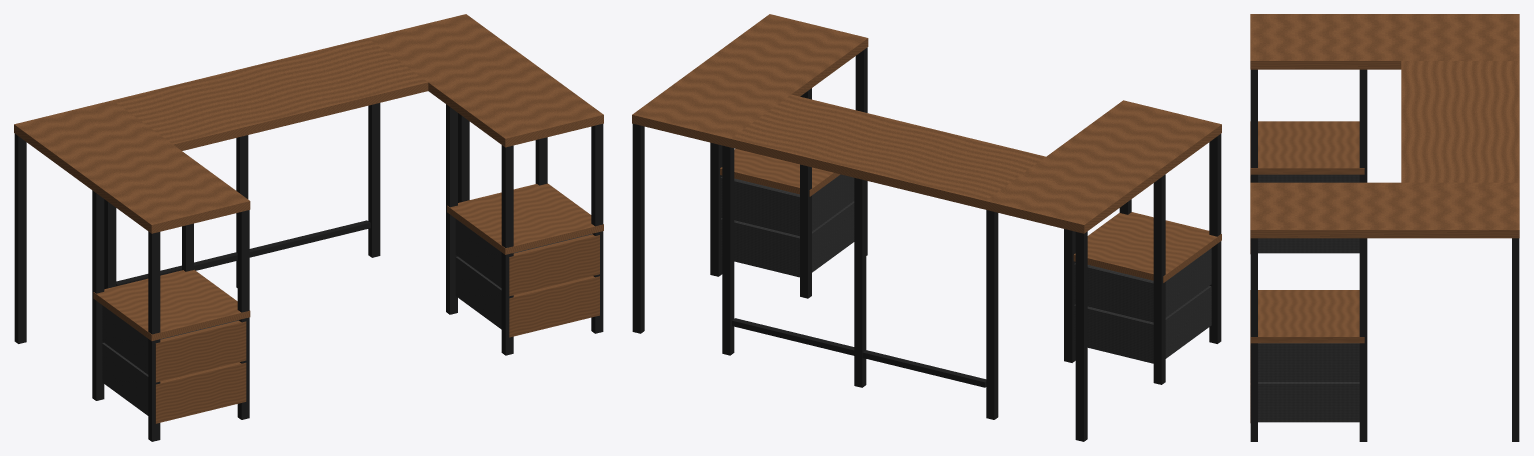
3 renders of one model, left to right at view 1: azimuth 30°, elevation 25°; view 2: azimuth 150°, elevation 25°; view 3: azimuth 270°, elevation 25°, orthographic. The views are drawn at different scales.
Parts seen in each view (by area): view 1: 1 center_tabletop, 2 left_wing_tabletop, 3 right_wing_tabletop, 4 left_open_shelf, 5 right_open_shelf, 6 left_upper_drawer_front, 10 right_upper_drawer_front, 8 left_lower_drawer_front, 12 right_lower_drawer_front, 18 left_back_outer_leg, 16 left_mid_outer_leg, 20 right_front_inner_leg (+14 smaller); view 2: 1 center_tabletop, 2 left_wing_tabletop, 3 right_wing_tabletop, 4 left_open_shelf, 9 left_lower_drawer_body, 13 right_lower_drawer_body, 7 left_upper_drawer_body, 11 right_upper_drawer_body, 18 left_back_outer_leg, 25 right_back_outer_leg, 19 left_back_inner_leg, 24 right_back_inner_leg (+9 smaller); view 3: 3 right_wing_tabletop, 1 center_tabletop, 2 left_wing_tabletop, 4 left_open_shelf, 5 right_open_shelf, 13 right_lower_drawer_body, 11 right_upper_drawer_body, 23 right_mid_outer_leg, 9 left_lower_drawer_body, 25 right_back_outer_leg, 21 right_front_outer_leg, 17 left_mid_inner_leg (+2 smaller).
Part boxes in pixels (left/top/right/bottom): 1 center_tabletop: left=113, top=38, right=428, bottom=150; 2 left_wing_tabletop: left=14, top=100, right=250, bottom=233; 3 right_wing_tabletop: left=368, top=14, right=603, bottom=147; 4 left_open_shelf: left=93, top=269, right=250, bottom=340; 5 right_open_shelf: left=447, top=183, right=603, bottom=254; 6 left_upper_drawer_front: left=155, top=320, right=246, bottom=382; 10 right_upper_drawer_front: left=509, top=234, right=599, bottom=296; 8 left_lower_drawer_front: left=155, top=362, right=246, bottom=423; 12 right_lower_drawer_front: left=509, top=276, right=599, bottom=337; 18 left_back_outer_leg: left=14, top=134, right=26, bottom=343; 16 left_mid_outer_leg: left=92, top=190, right=104, bottom=400; 20 right_front_inner_leg: left=501, top=145, right=513, bottom=355; 1 center_tabletop: left=730, top=94, right=1045, bottom=209; 2 left_wing_tabletop: left=985, top=100, right=1221, bottom=233; 3 right_wing_tabletop: left=632, top=14, right=868, bottom=147; 4 left_open_shelf: left=1073, top=212, right=1221, bottom=282; 9 left_lower_drawer_body: left=1074, top=286, right=1211, bottom=363; 13 right_lower_drawer_body: left=720, top=201, right=854, bottom=277; 7 left_upper_drawer_body: left=1074, top=248, right=1211, bottom=322; 11 right_upper_drawer_body: left=720, top=174, right=854, bottom=236; 18 left_back_outer_leg: left=1075, top=231, right=1087, bottom=441; 25 right_back_outer_leg: left=632, top=124, right=644, bottom=333; 19 left_back_inner_leg: left=986, top=210, right=998, bottom=419; 24 right_back_inner_leg: left=722, top=145, right=734, bottom=355; 3 right_wing_tabletop: left=1250, top=182, right=1519, bottom=238; 1 center_tabletop: left=1401, top=61, right=1519, bottom=182; 2 left_wing_tabletop: left=1250, top=14, right=1519, bottom=69; 4 left_open_shelf: left=1250, top=121, right=1364, bottom=174; 5 right_open_shelf: left=1250, top=290, right=1364, bottom=343; 13 right_lower_drawer_body: left=1258, top=382, right=1359, bottom=422; 11 right_upper_drawer_body: left=1258, top=343, right=1359, bottom=381; 23 right_mid_outer_leg: left=1359, top=238, right=1367, bottom=441; 9 left_lower_drawer_body: left=1258, top=238, right=1359, bottom=253; 25 right_back_outer_leg: left=1512, top=238, right=1519, bottom=441; 21 right_front_outer_leg: left=1250, top=238, right=1257, bottom=441; 17 left_mid_inner_leg: left=1359, top=69, right=1367, bottom=182.
Bounding box in the file's own units: 2.18 × 1 × 1.15.
3 materials, 2 textured.
